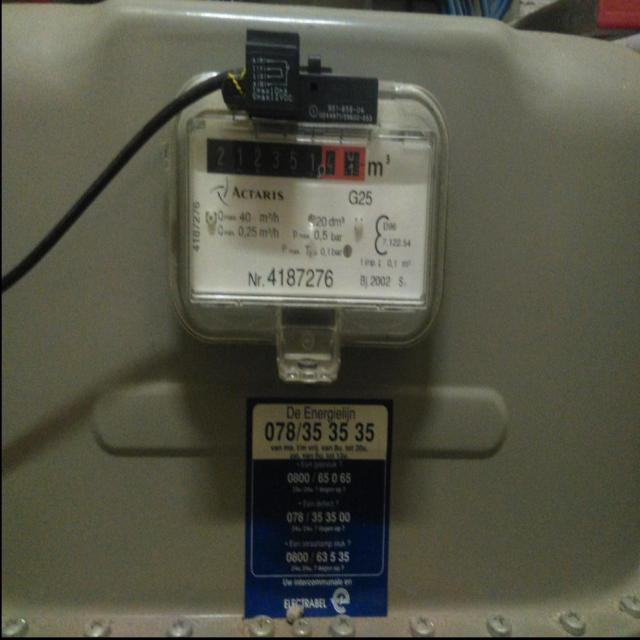gaz_meter: (190, 124, 426, 303)
indication: (205, 138, 366, 186)
